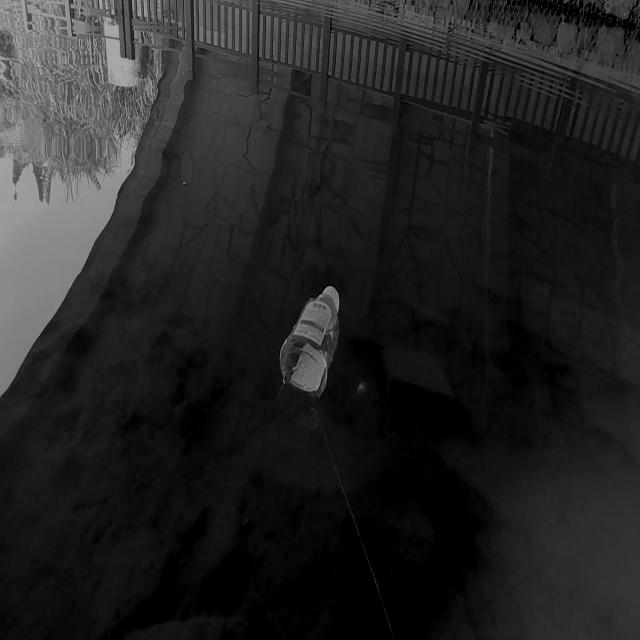bottle: (263, 240, 360, 413)
